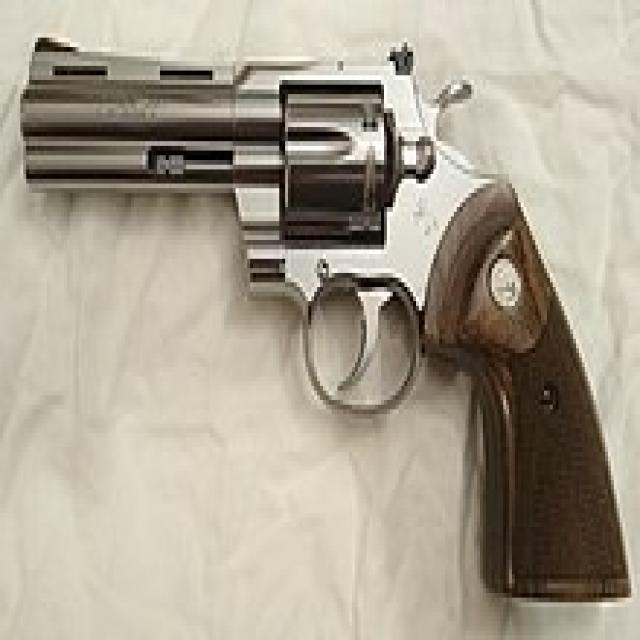Pistol: (14, 28, 635, 611)
